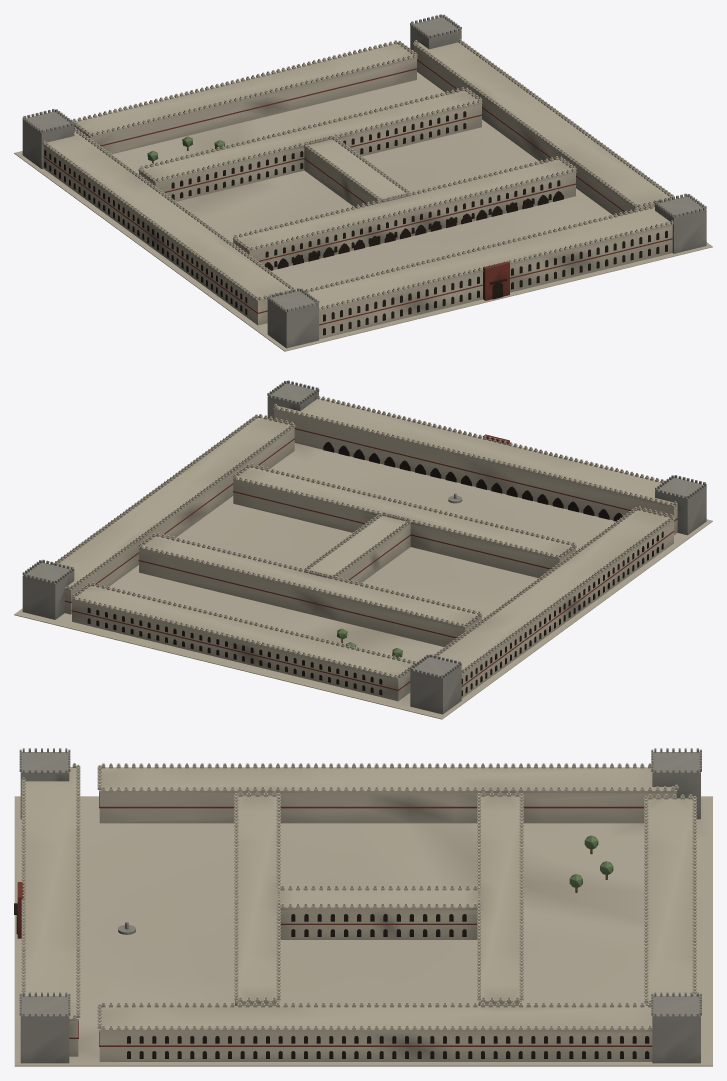
The model's file is viceregal-palace.glb.
3 views of the same model, one above another, from view 1: azimuth 30°, elevation 25°; view 2: azimuth 150°, elevation 25°; view 3: azimuth 270°, elevation 25° (orthographic). The views are drawn at different scales.
Visible parts, largest first — view 1: p1_ranges, p0_ground, p2_towers; view 2: p1_ranges, p0_ground, p2_towers; view 3: p1_ranges, p0_ground, p2_towers.
Part boxes in pixels (x1=…): p1_ranges: x1=42, y1=39, x2=674, y2=339; p0_ground: x1=14, y1=72, x2=712, y2=351; p2_towers: x1=22, y1=14, x2=706, y2=348; p1_ranges: x1=53, y1=395, x2=677, y2=701; p0_ground: x1=14, y1=443, x2=712, y2=719; p2_towers: x1=22, y1=380, x2=706, y2=714; p1_ranges: x1=21, y1=763, x2=696, y2=1061; p0_ground: x1=14, y1=796, x2=712, y2=1066; p2_towers: x1=14, y1=748, x2=701, y2=1063.
Bounding box in the file's own units: 210 × 18.4 × 230.
